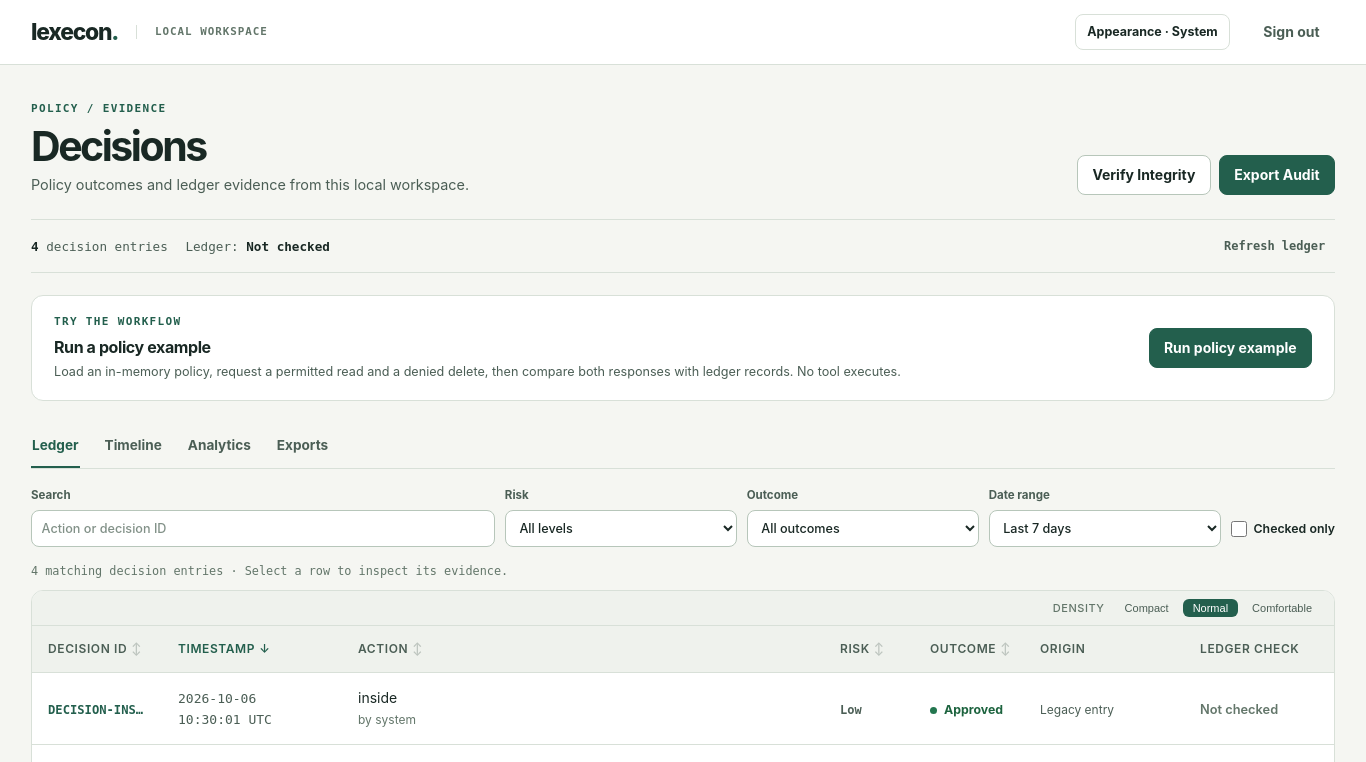
Test: 24-hour filter treats offset-free ledger timestamps as UTC and preserves explicit offsets
Expected: the text "inside" is shown, [358, 689, 397, 706]
Select "Last 24 hours" in the dropdown labelled "Date range" at [1105, 529], box [989, 510, 1220, 547]
(page scrolled)
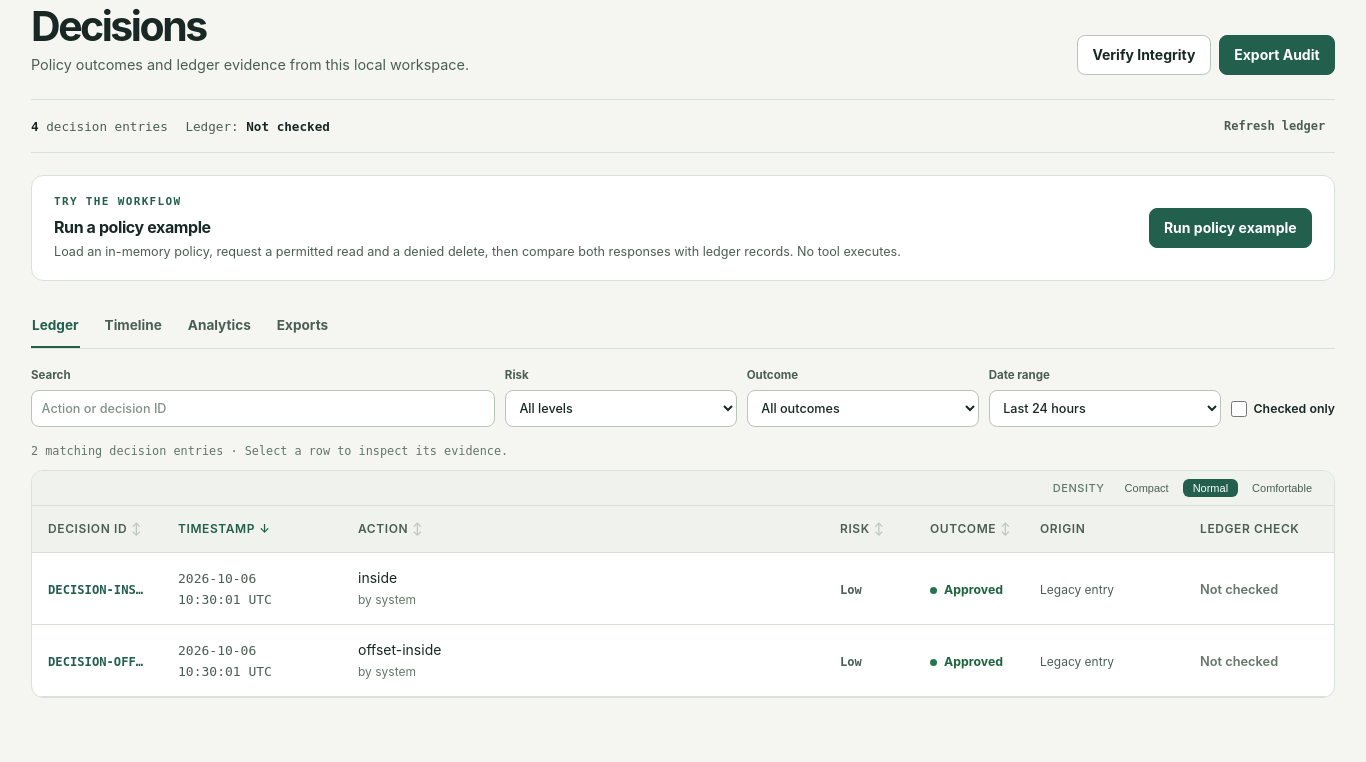
Expected: the text "inside" is shown, [358, 569, 397, 586]
Now the text "2026-10-06 10:30:01 UTC" is shown 2 times, box [178, 571, 272, 607]; [178, 643, 272, 679]
